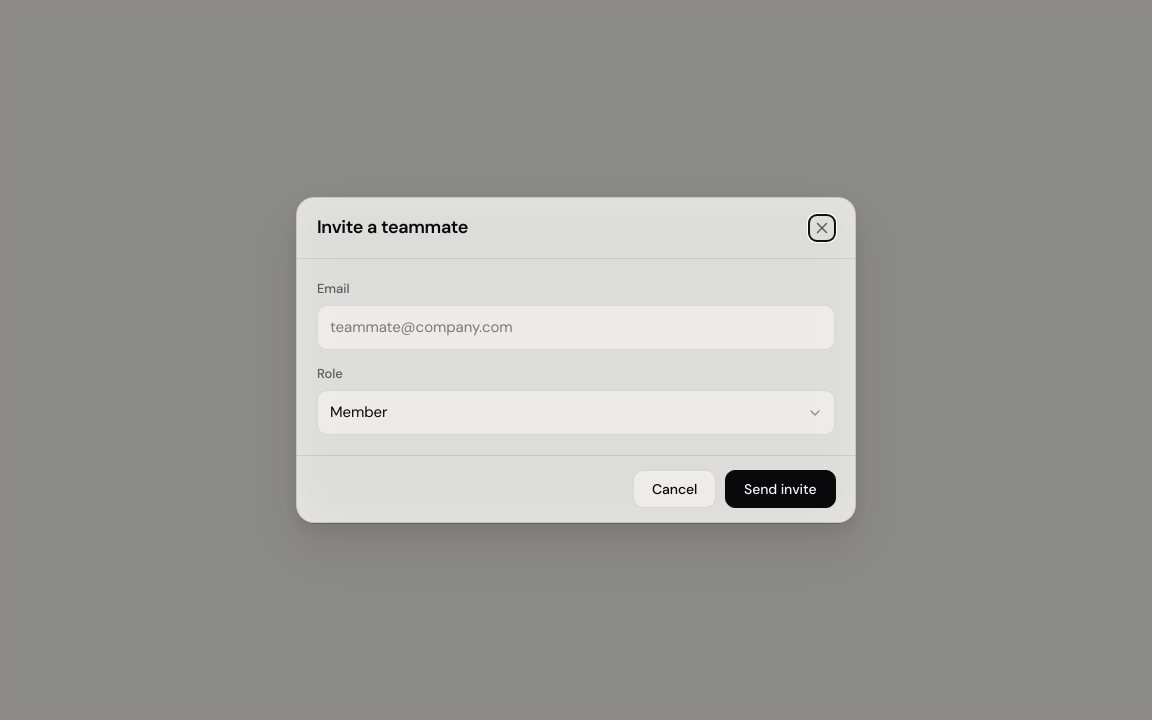
Scenario: InviteTeammateModal › offers Revoke and re-invite on 409 INVITE_ALREADY_PENDING
Type "a@b.com" into the field labelled "Email" at (576, 327), box [317,305,835,350]
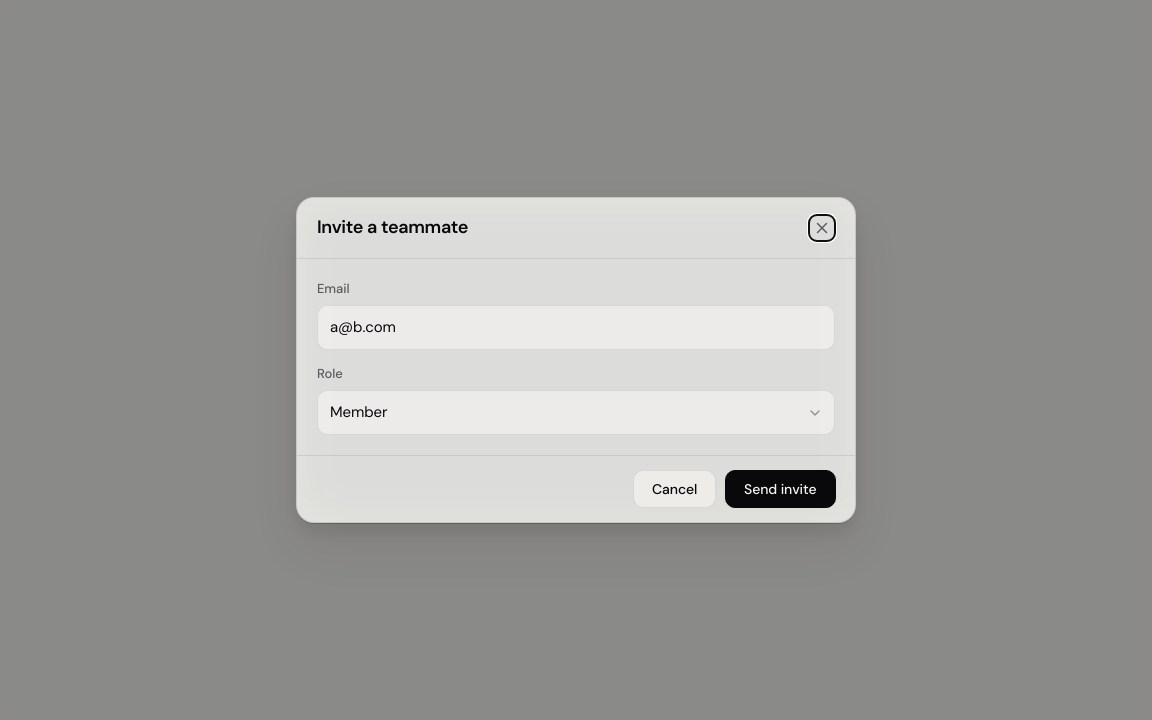
Click the button "Send invite" at (780, 489), box [724,470,835,508]
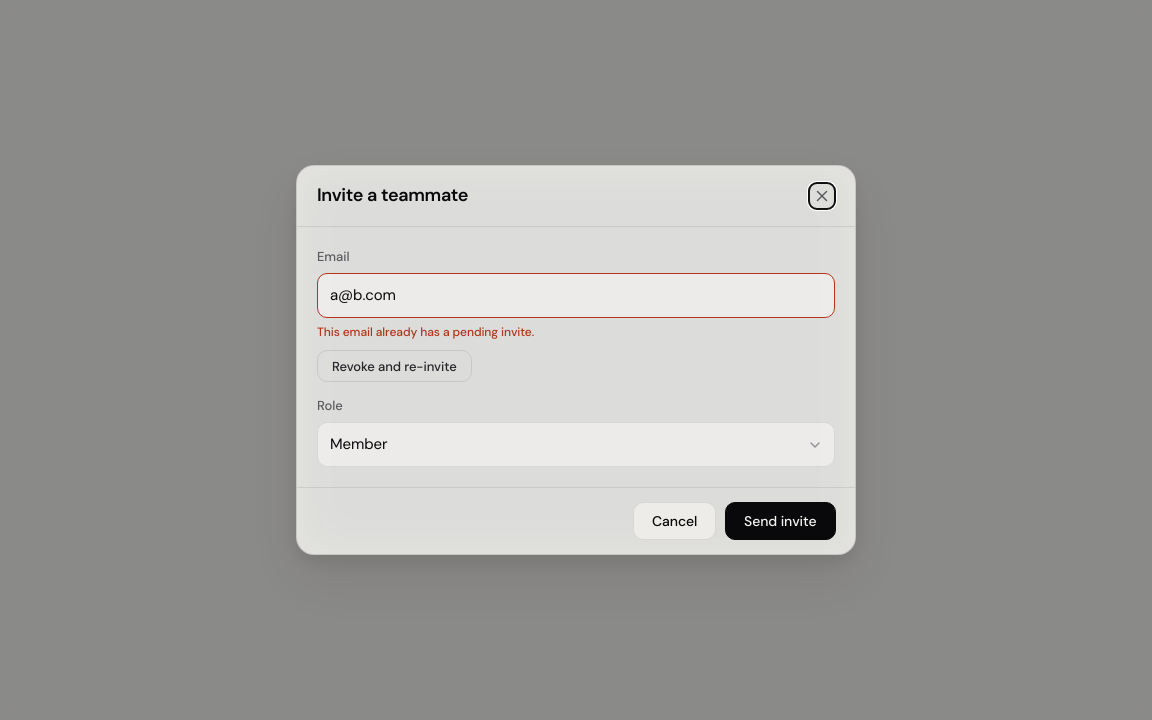
Result: the button "Revoke and re-invite" is shown at [317,350,472,382]
